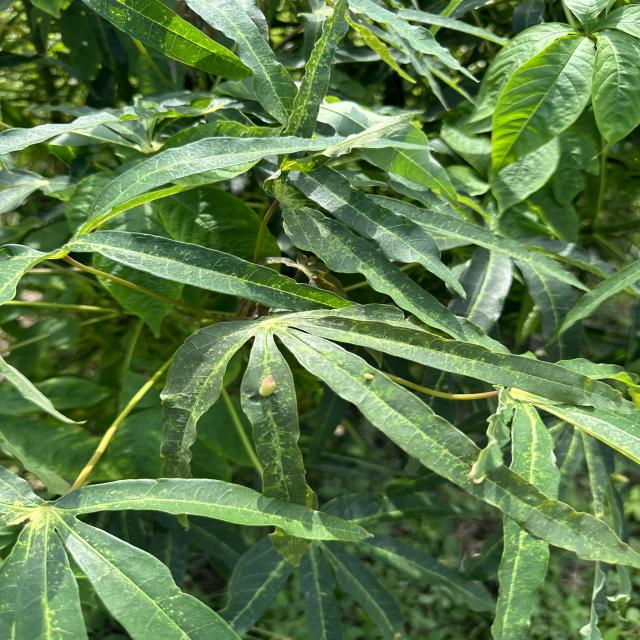Maleza: (487, 0, 637, 168)
Mosca: (256, 365, 287, 398), (354, 366, 381, 395)
